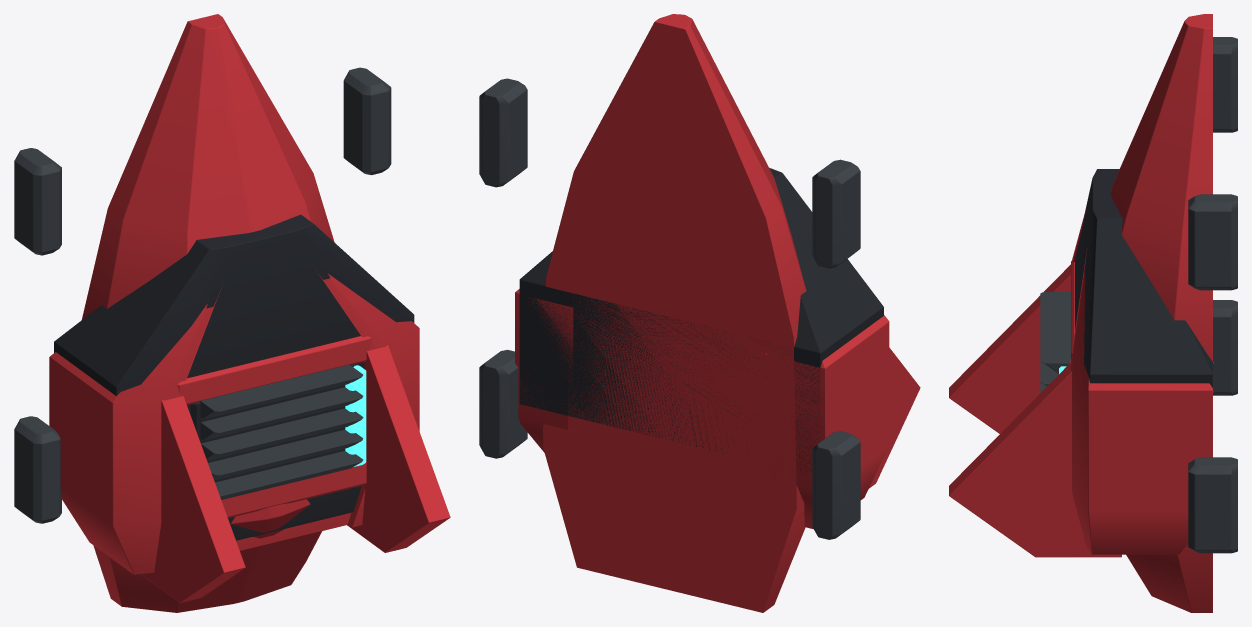
File: CalfBack_Set03_Overclock.fbx
3 views of the same model, side by side, from view 1: azimuth 30°, elevation 25°; view 2: azimuth 150°, elevation 25°; view 3: azimuth 270°, elevation 25° (orthographic). The views are drawn at different scales.
Visible parts, largest first — view 1: CalfBack_Set03_Overclock; view 2: CalfBack_Set03_Overclock; view 3: CalfBack_Set03_Overclock.
Part boxes in pixels (<box>): CalfBack_Set03_Overclock: <box>14,14,450,612</box>; CalfBack_Set03_Overclock: <box>479,14,920,612</box>; CalfBack_Set03_Overclock: <box>949,14,1237,612</box>.
Size of the model in its own units: 0.49 by 0.73 by 0.3487.
